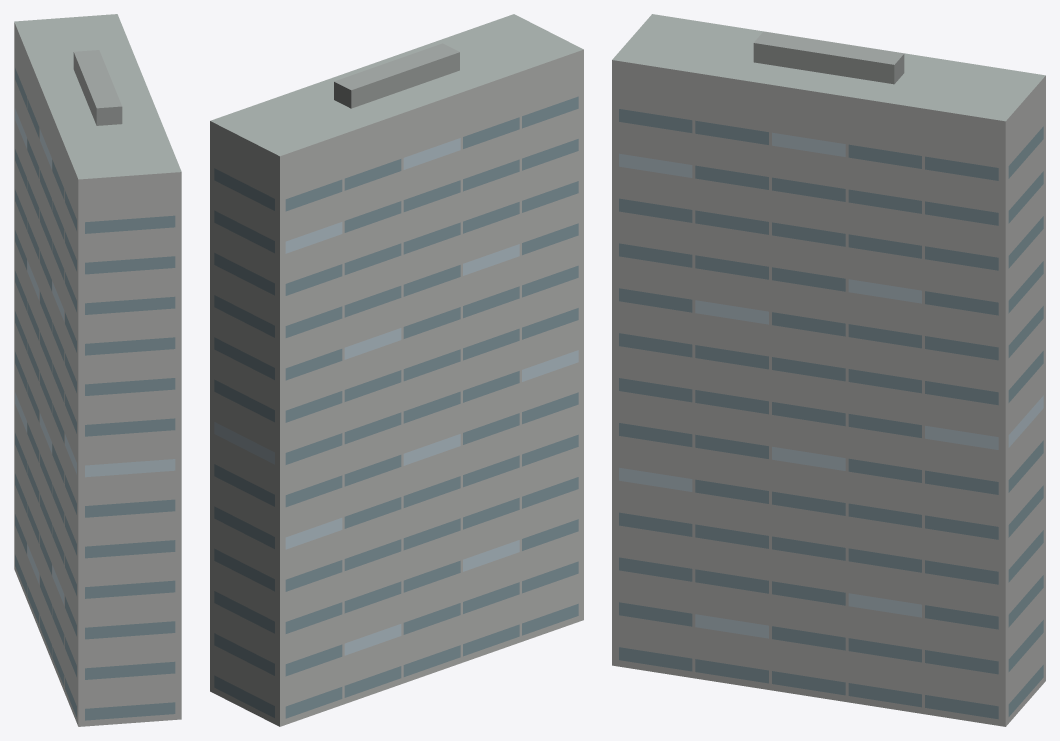
Rendered from fallback-jamsil-els-103.glb.
The picture shows the model from 3 angles, left to right: view 1: azimuth 30°, elevation 25°; view 2: azimuth 150°, elevation 25°; view 3: azimuth 270°, elevation 25°; orthographic projection. The views are drawn at different scales.
Visible parts, largest first — view 1: fallback-jamsil-els-103; view 2: fallback-jamsil-els-103; view 3: fallback-jamsil-els-103.
Boxes of the visible parts, bbox=[...] form: fallback-jamsil-els-103: bbox=[14, 14, 181, 726]; fallback-jamsil-els-103: bbox=[210, 14, 583, 726]; fallback-jamsil-els-103: bbox=[612, 14, 1045, 726].
Bounding box in the file's own units: 28.37 × 77 × 48.45.
